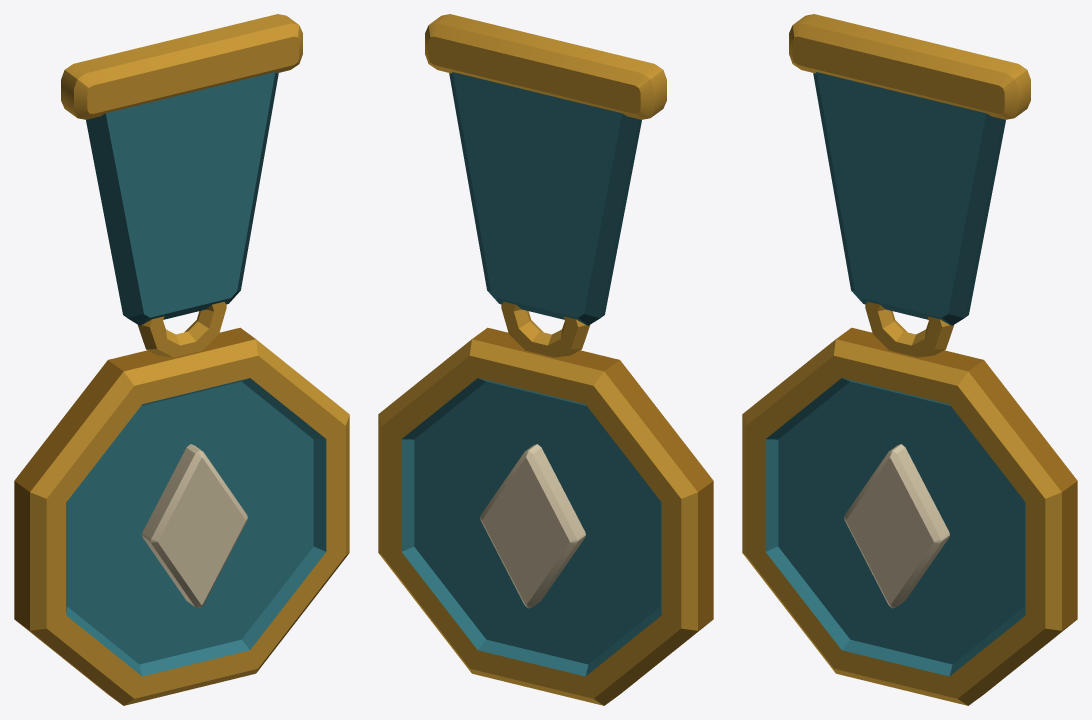
File: Medal_15.glb
3 renders of one model, left to right at view 1: azimuth 30°, elevation 25°; view 2: azimuth 150°, elevation 25°; view 3: azimuth 330°, elevation 25°, orthographic.
Parts seen in each view (by area): view 1: Medal_15; view 2: Medal_15; view 3: Medal_15.
Boxes of the visible parts, x1,y1,x2,y2 form: Medal_15: [14, 14, 349, 705]; Medal_15: [378, 14, 713, 705]; Medal_15: [742, 14, 1077, 705].
Size of the model in its own units: 1.29 by 2.47 by 0.28.
